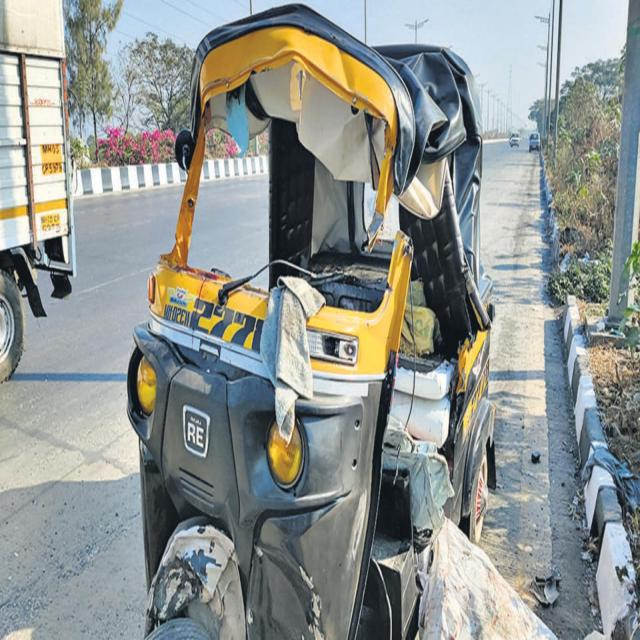accident: (128, 4, 495, 638)
